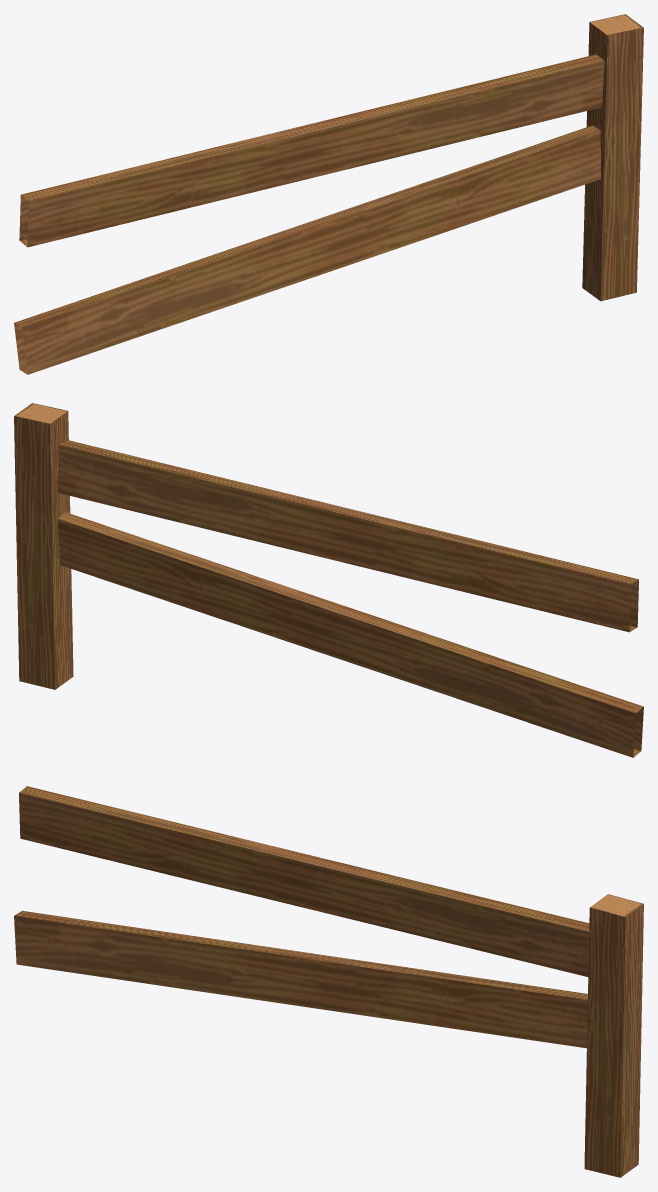
File: prop_woodenfence_extension1.glb
3 views of the same model, one above another, from view 1: azimuth 30°, elevation 25°; view 2: azimuth 150°, elevation 25°; view 3: azimuth 330°, elevation 25° (orthographic).
Visible parts, largest first — view 1: Prop_WoodenFence_Extension1; view 2: Prop_WoodenFence_Extension1; view 3: Prop_WoodenFence_Extension1.
Part boxes in pixels (x1=…): Prop_WoodenFence_Extension1: x1=14, y1=14, x2=643, y2=374; Prop_WoodenFence_Extension1: x1=14, y1=403, x2=643, y2=757; Prop_WoodenFence_Extension1: x1=14, y1=786, x2=643, y2=1177.
Size of the model in its own units: 2.05 by 0.8381 by 0.1103.
Materials: 1 (1 with a texture image).
